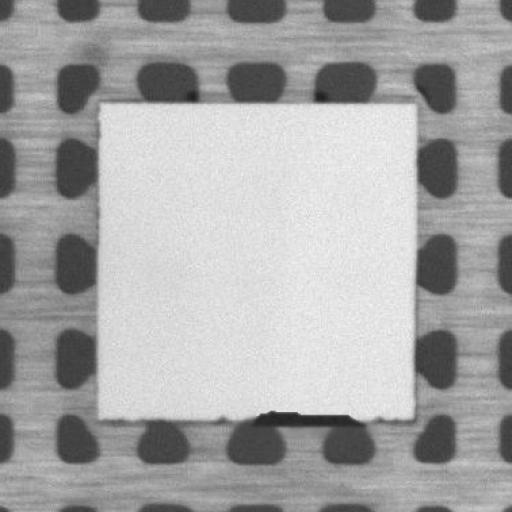DIE_BROKEN: (241, 407, 369, 427)
